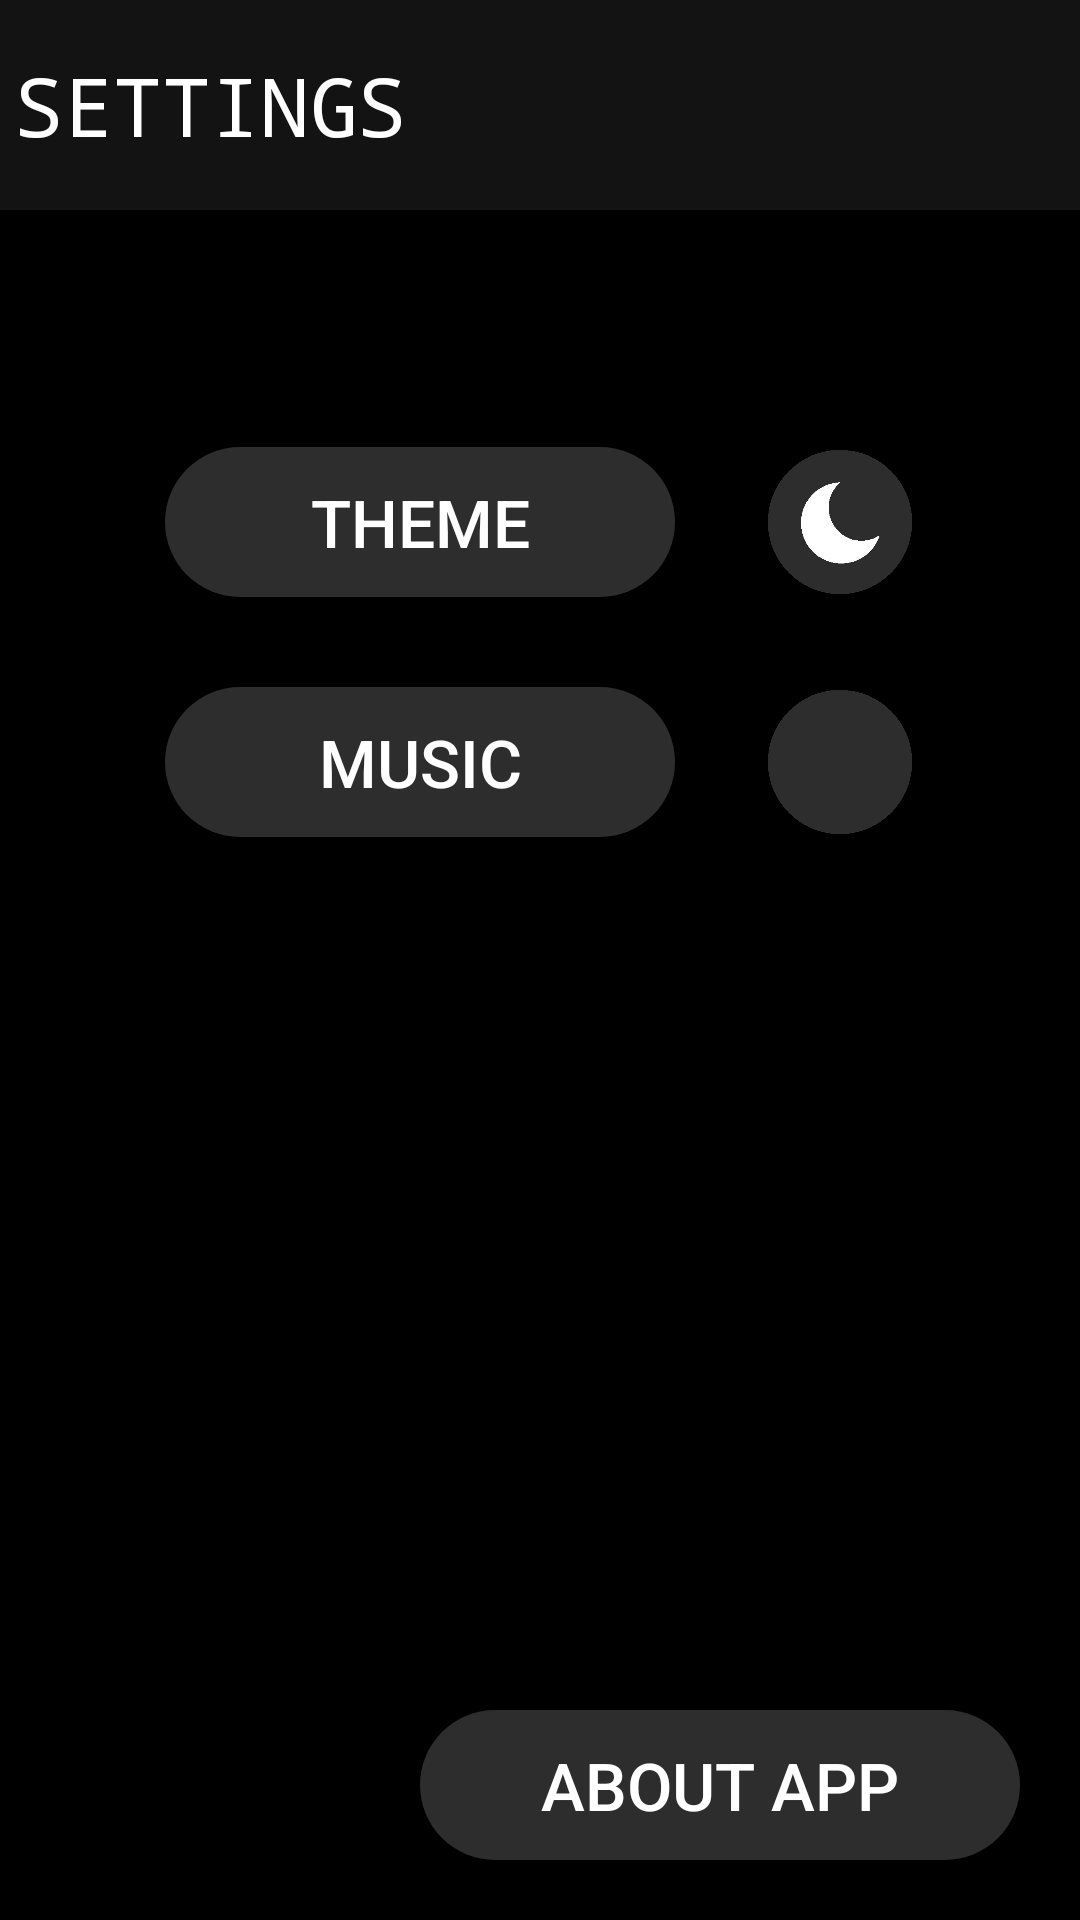

Icons on this 1080 x 1920 Android screen, each with its box as (x1=x1, y1=y1, x2=x2, y2=y2):
darkmoonlight: (x1=768, y1=450, x2=912, y2=594)
